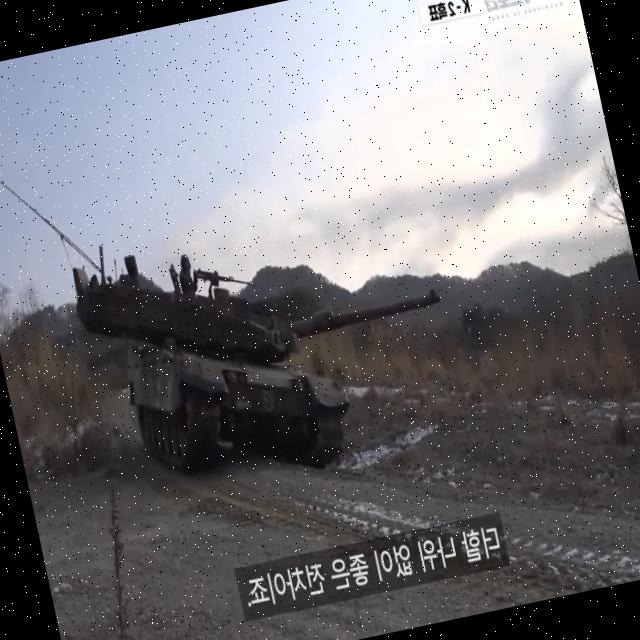korea tank: (59, 174, 473, 514)
